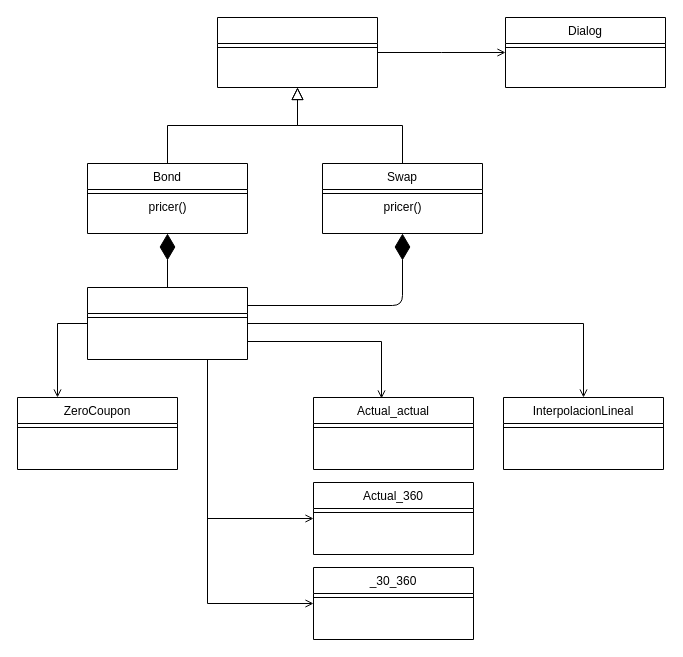
The diagram is 683 pixels wide and 657 high, and some of its shapes have lost their labels. The centre of each missing label's shape, as x and y in pixels:
"Instrument" goes at [297,52].
"ZeroCouponCurve" goes at [167,323].
